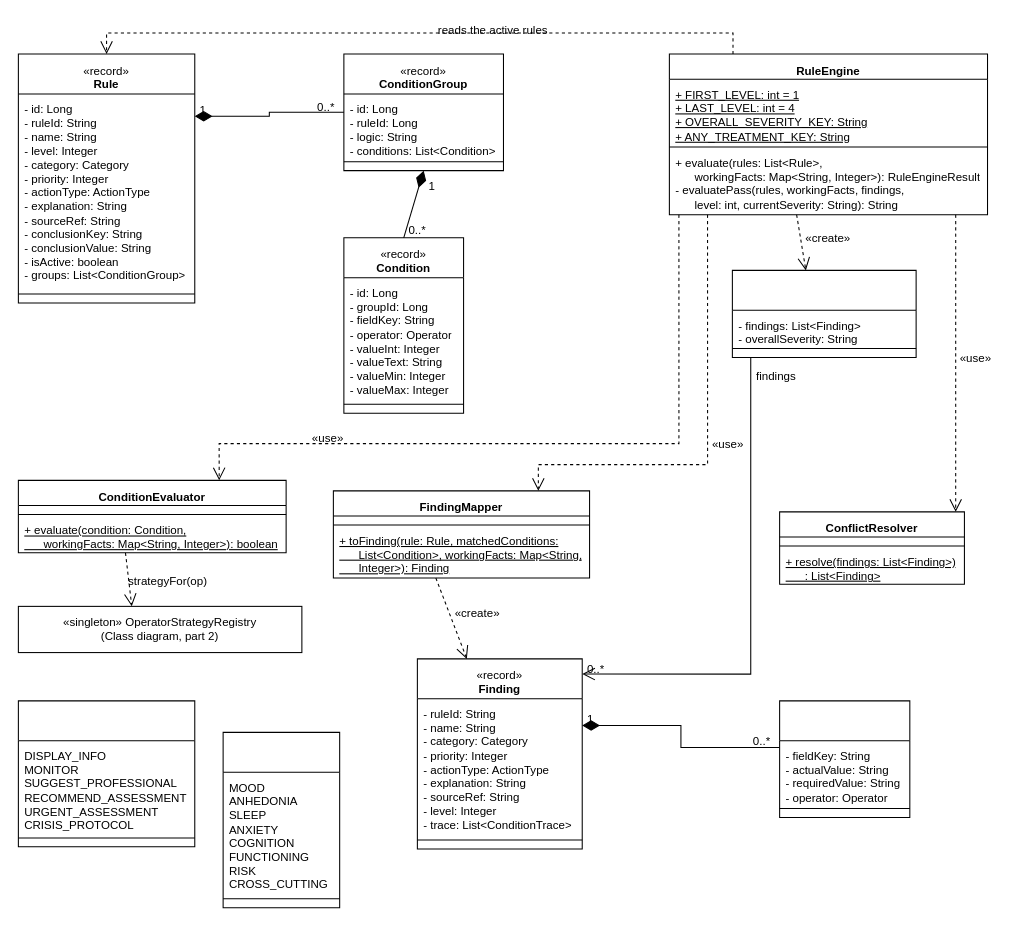
The diagram is 1014 pixels wide and 926 high, and some of its shapes have lost their labels. Here are the shapes that lost their labels. From the top down, the box of each, then its label:
(731, 269, 916, 358): «record» RuleEngine.RuleEngineResult
(17, 700, 195, 847): «enumeration» ActionType
(779, 700, 910, 817): «record» ConditionTrace
(222, 731, 340, 908): «enumeration» Category
